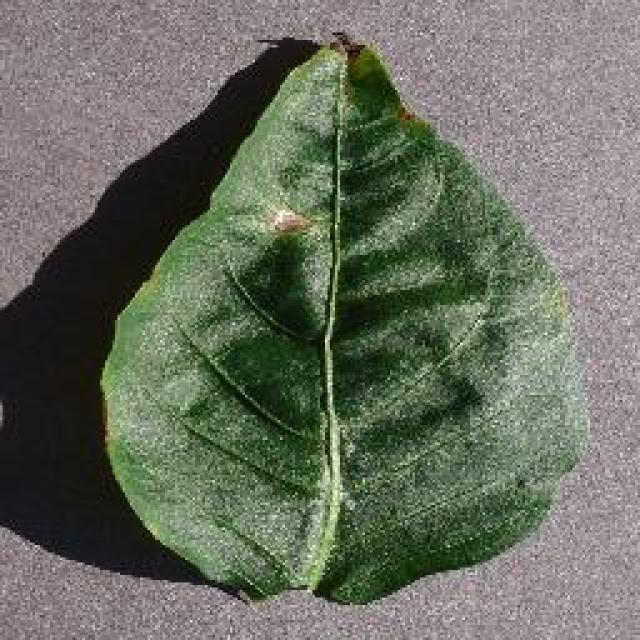Chilli_Bacterial_Spot: (95, 35, 595, 607), (258, 195, 320, 245), (268, 205, 312, 240), (325, 28, 367, 60), (393, 100, 415, 125)
